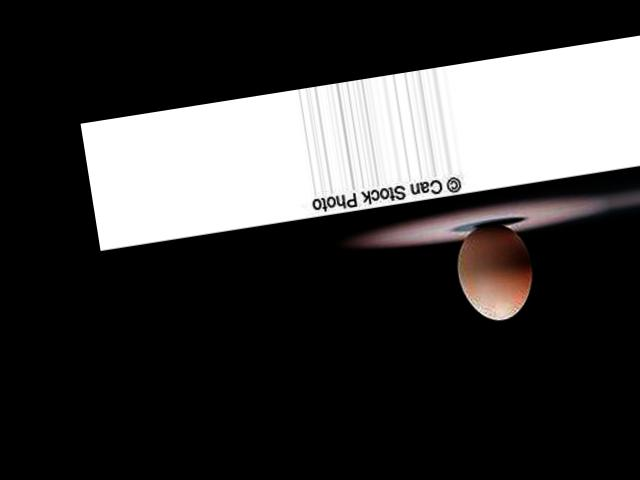egg: (451, 218, 541, 325)
